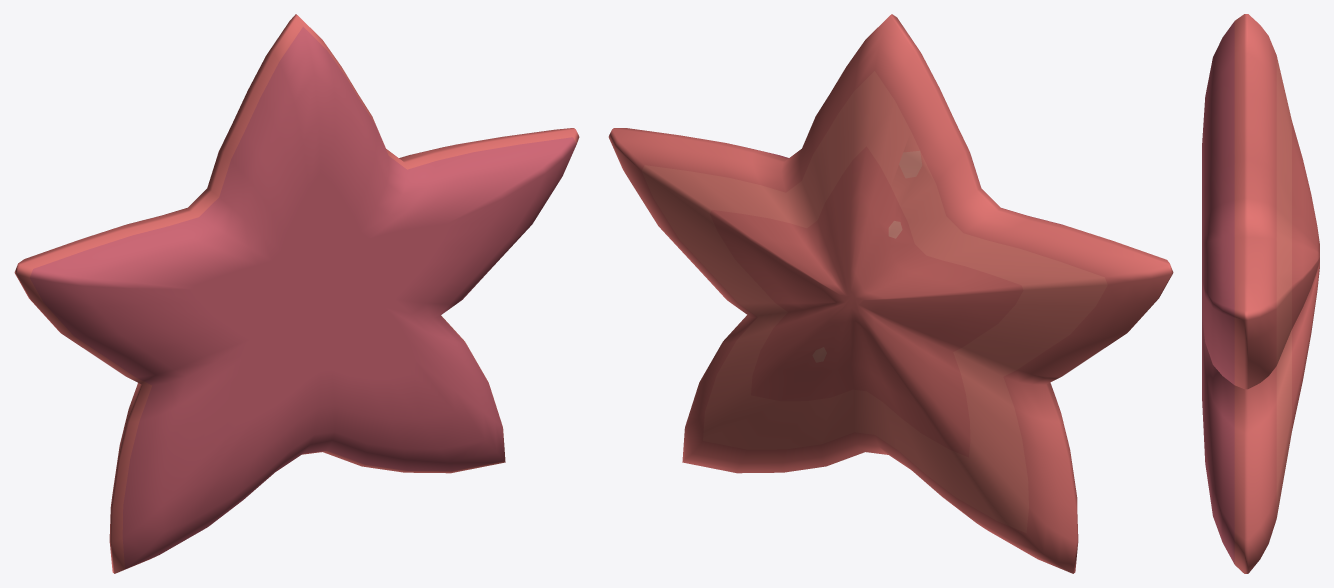
File: SM_StarfishV2.fbx
3 views of the same model, side by side, from view 1: azimuth 30°, elevation 25°; view 2: azimuth 150°, elevation 25°; view 3: azimuth 270°, elevation 25° (orthographic). The views are drawn at different scales.
Parts seen in each view (by area): view 1: Starfish; view 2: Starfish; view 3: Starfish.
Boxes of the visible parts, x1,y1,x2,y2 form: Starfish: (14, 14, 579, 573); Starfish: (608, 14, 1173, 573); Starfish: (1202, 14, 1319, 573).
Size of the model in its own units: 6.47 by 5.64 by 1.26.
1 material, 1 textured.
